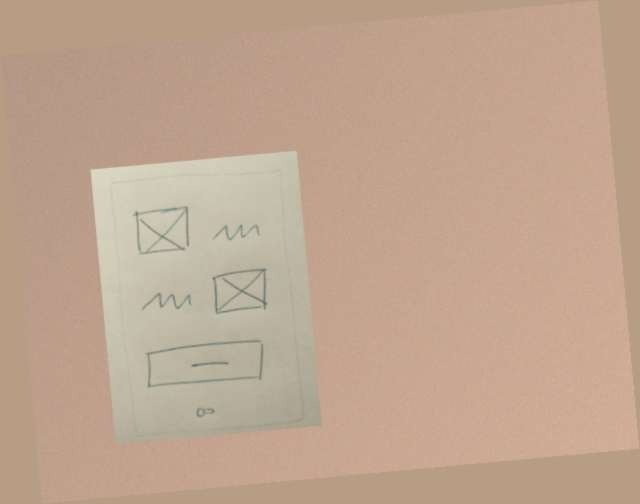button: (136, 335, 271, 396)
image: (127, 200, 199, 260), (207, 265, 275, 321)
switch: (189, 399, 223, 424)
text: (133, 284, 200, 318), (207, 216, 266, 249)
